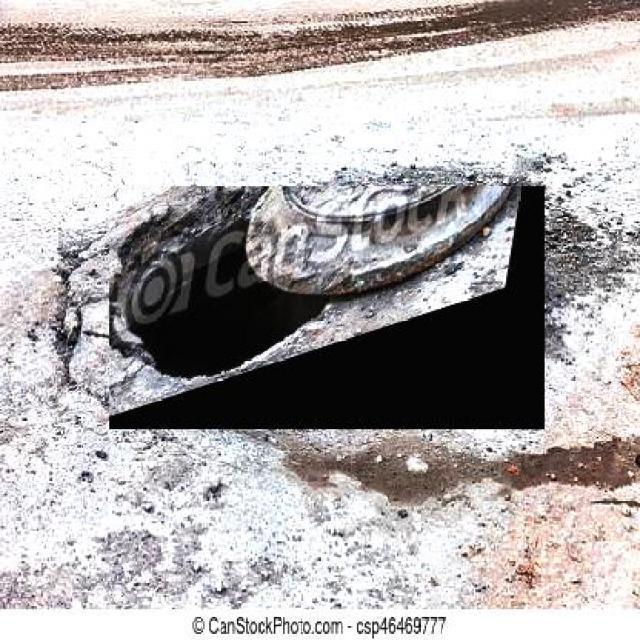Open Manhole: (110, 187, 544, 430)
Pothole: (514, 429, 640, 492)
